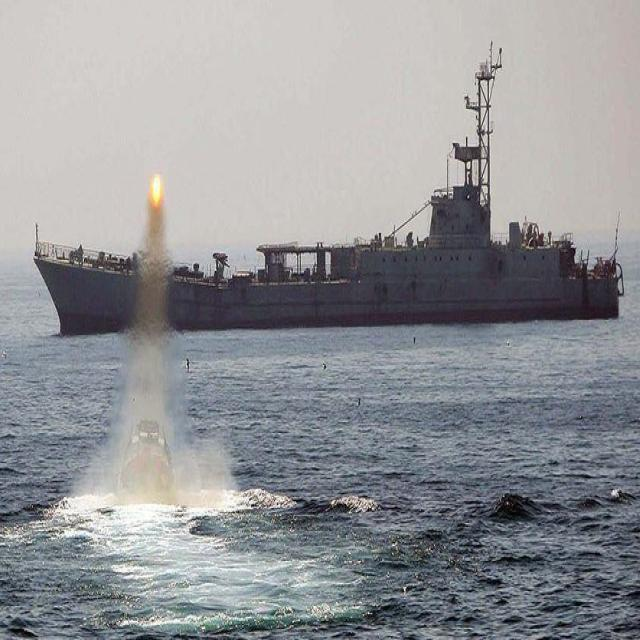navalvessels: (33, 66, 628, 354)
